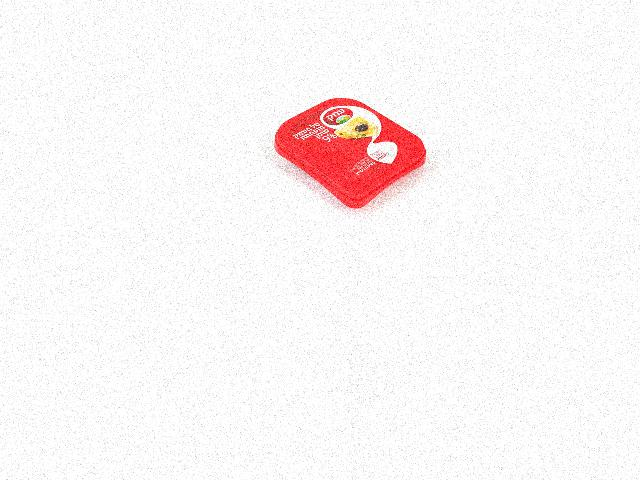cheese: (274, 97, 426, 209)
